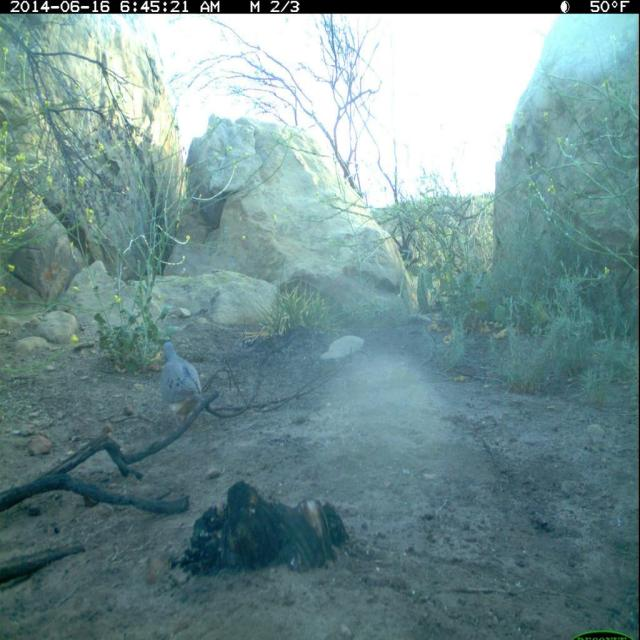bird: (160, 335, 211, 438)
